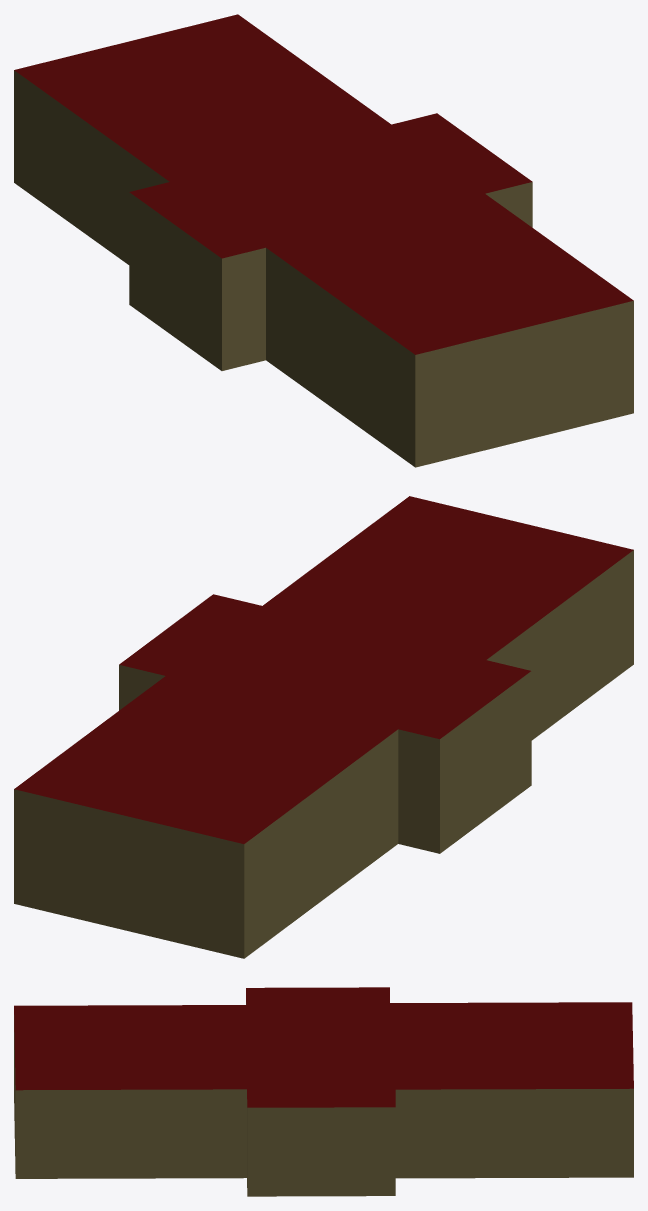
Rendered from Building_University_Hall_Export.FBX.
3 renders of one model, top to bottom at view 1: azimuth 30°, elevation 25°; view 2: azimuth 150°, elevation 25°; view 3: azimuth 270°, elevation 25°, orthographic. The views are drawn at different scales.
Parts seen in each view (by area): view 1: Building_University_Hall_Export; view 2: Building_University_Hall_Export; view 3: Building_University_Hall_Export.
Part boxes in pixels (box(x1,y1,x2,y2)): Building_University_Hall_Export: box(14, 14, 633, 467); Building_University_Hall_Export: box(14, 496, 633, 958); Building_University_Hall_Export: box(14, 987, 633, 1196).
Bounding box in the file's own units: 8.59 × 2.95 × 18.69.
